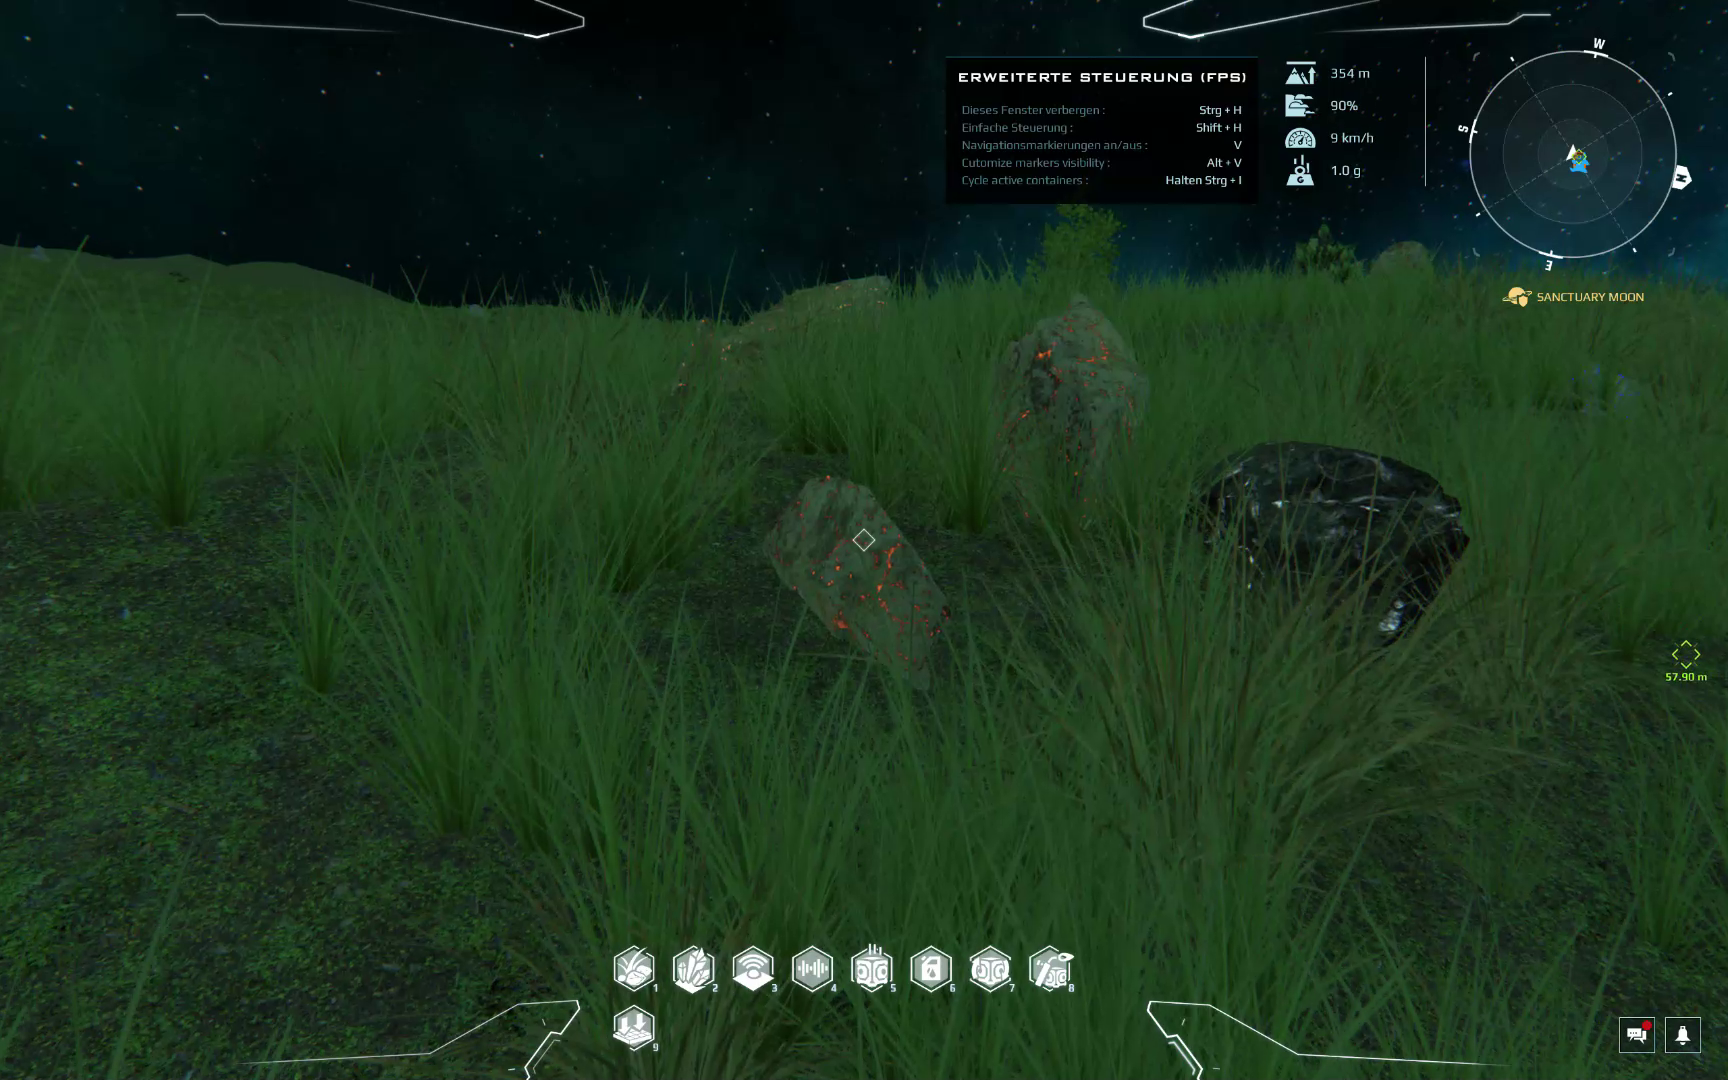Ore: (1194, 438, 1473, 641), (763, 473, 950, 699), (990, 302, 1148, 525), (732, 272, 898, 358), (664, 319, 718, 414)
